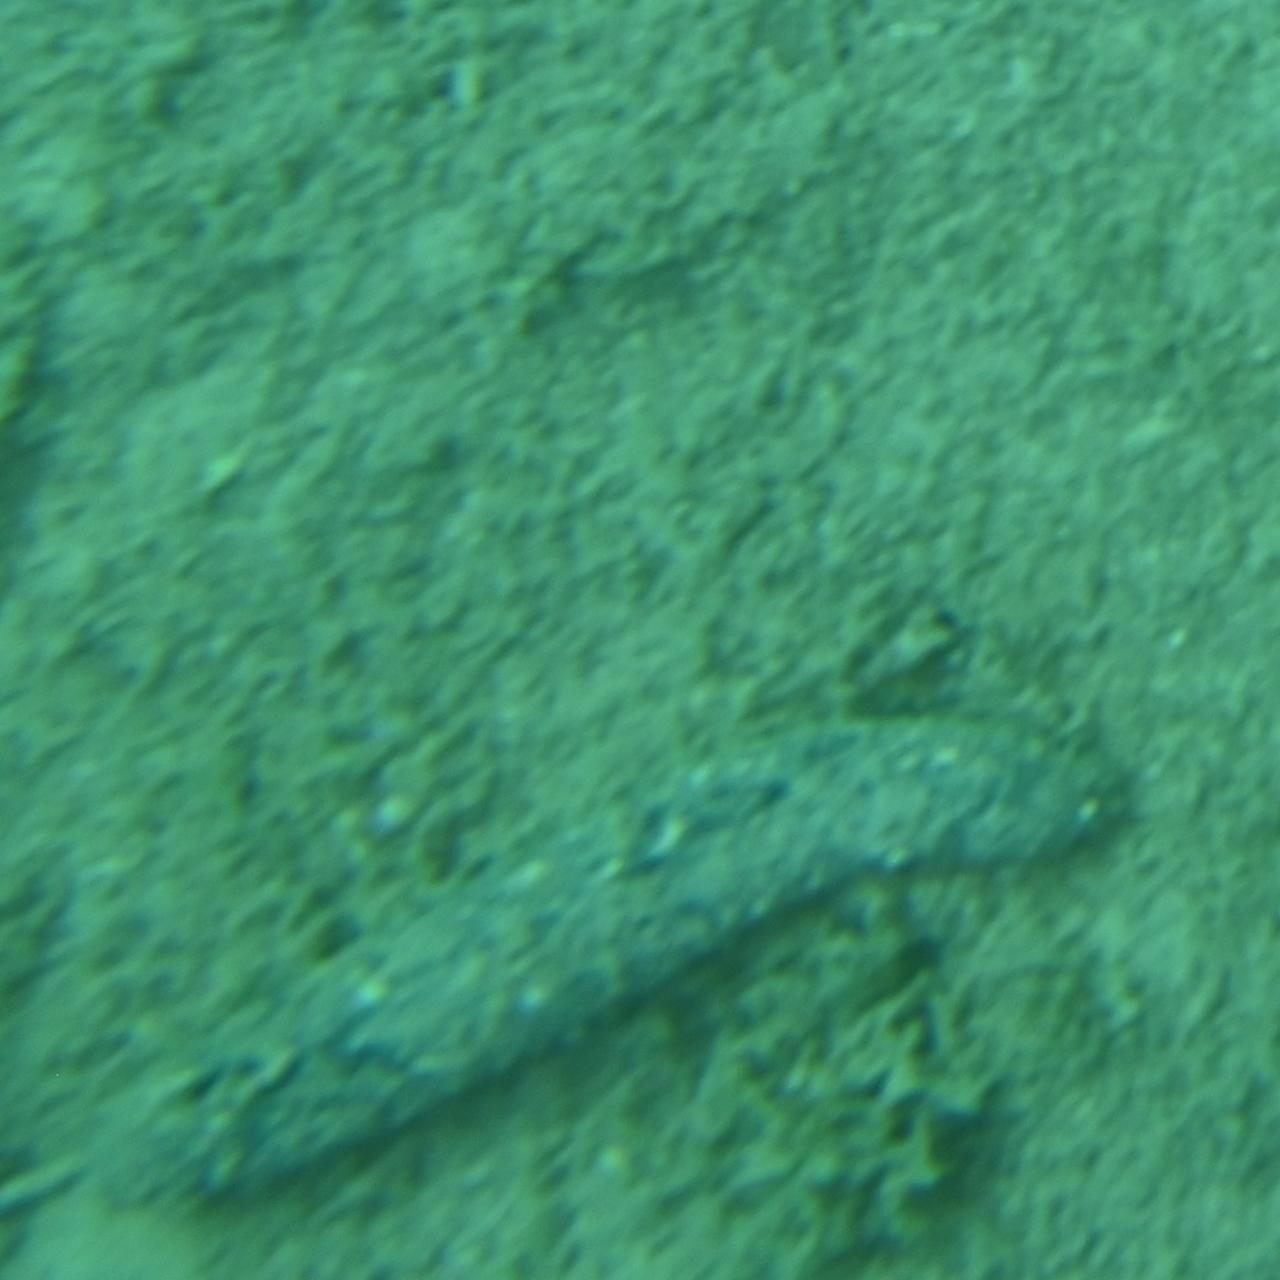Holothuria tubulosa: (130, 716, 1150, 1220)
